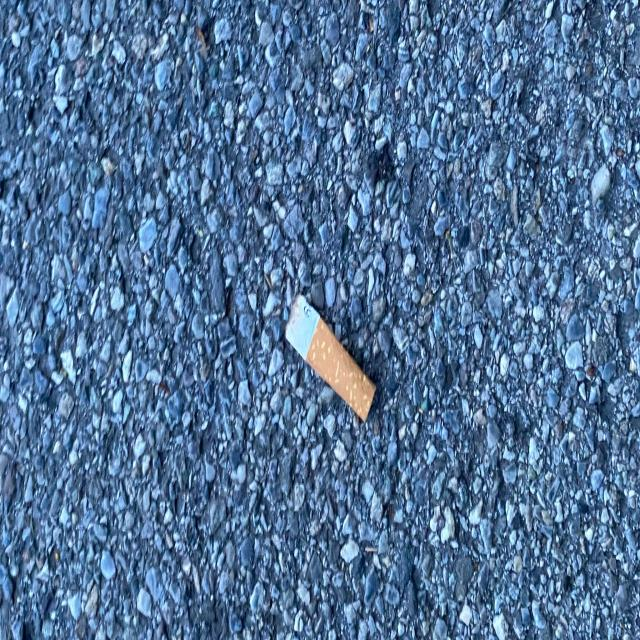other waste: (284, 291, 378, 426)
